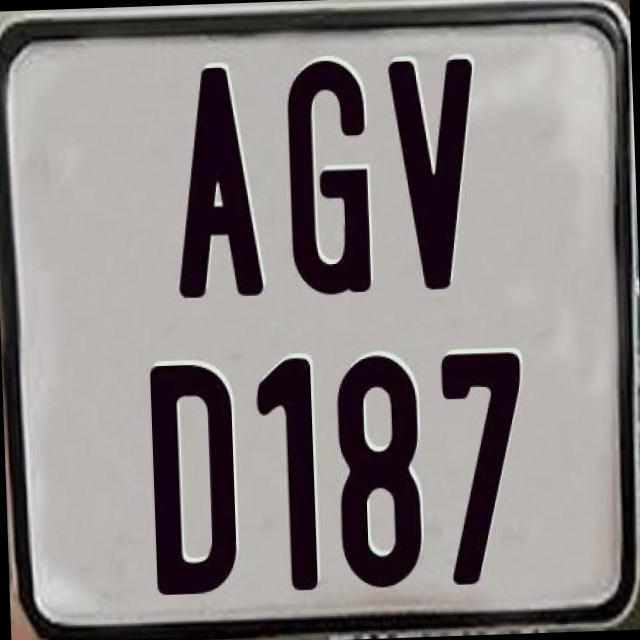1: (253, 352, 324, 586)
7: (440, 346, 530, 584)
8: (334, 348, 428, 594)
A: (168, 66, 262, 306)
D: (145, 363, 239, 598)
G: (286, 59, 372, 302)
V: (387, 54, 486, 296)
